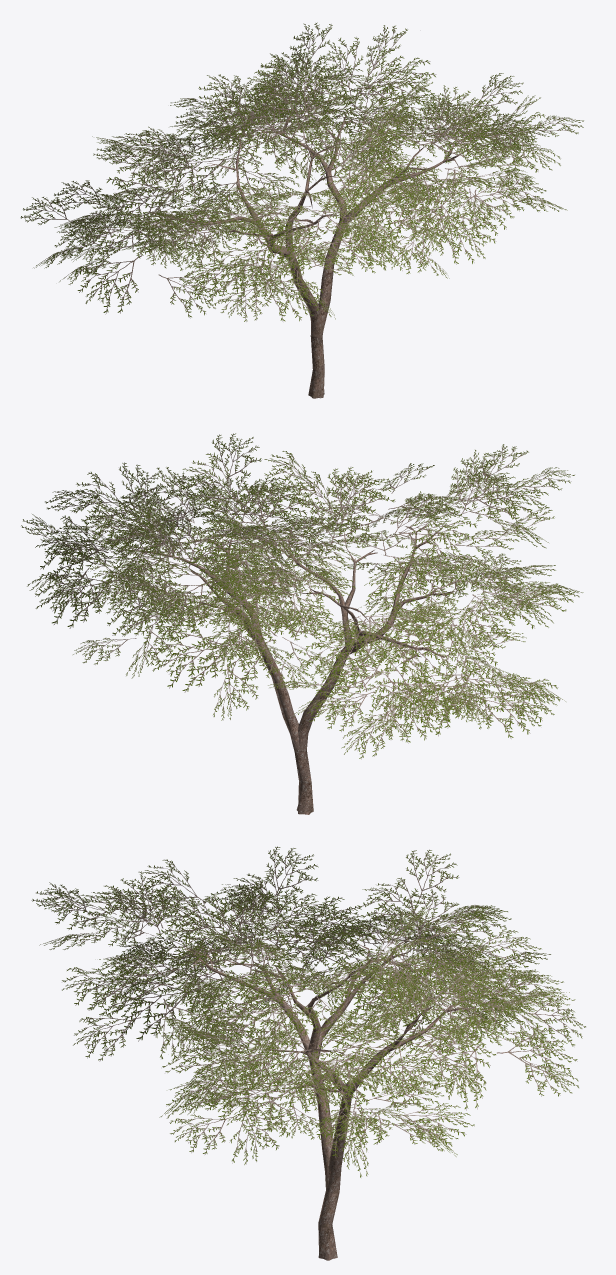
The model's file is m_doa_acacia_hi.glb.
3 views of the same model, one above another, from view 1: azimuth 30°, elevation 25°; view 2: azimuth 150°, elevation 25°; view 3: azimuth 270°, elevation 25° (orthographic). The views are drawn at different scales.
Parts seen in each view (by area): view 1: acacia branch_1_acacia branch_1Mat_0, bark05_0_bark05_0Mat_0; view 2: acacia branch_1_acacia branch_1Mat_0, bark05_0_bark05_0Mat_0; view 3: acacia branch_1_acacia branch_1Mat_0, bark05_0_bark05_0Mat_0.
Part boxes in pixels (<box>): acacia branch_1_acacia branch_1Mat_0: <box>20,22,583,321</box>; bark05_0_bark05_0Mat_0: <box>148,104,499,398</box>; acacia branch_1_acacia branch_1Mat_0: <box>21,433,583,759</box>; bark05_0_bark05_0Mat_0: <box>135,512,466,814</box>; acacia branch_1_acacia branch_1Mat_0: <box>31,846,585,1177</box>; bark05_0_bark05_0Mat_0: <box>184,929,475,1260</box>.
Bounding box in the file's own units: 12.8 × 6.91 × 10.39.
2 materials, 2 textured.
